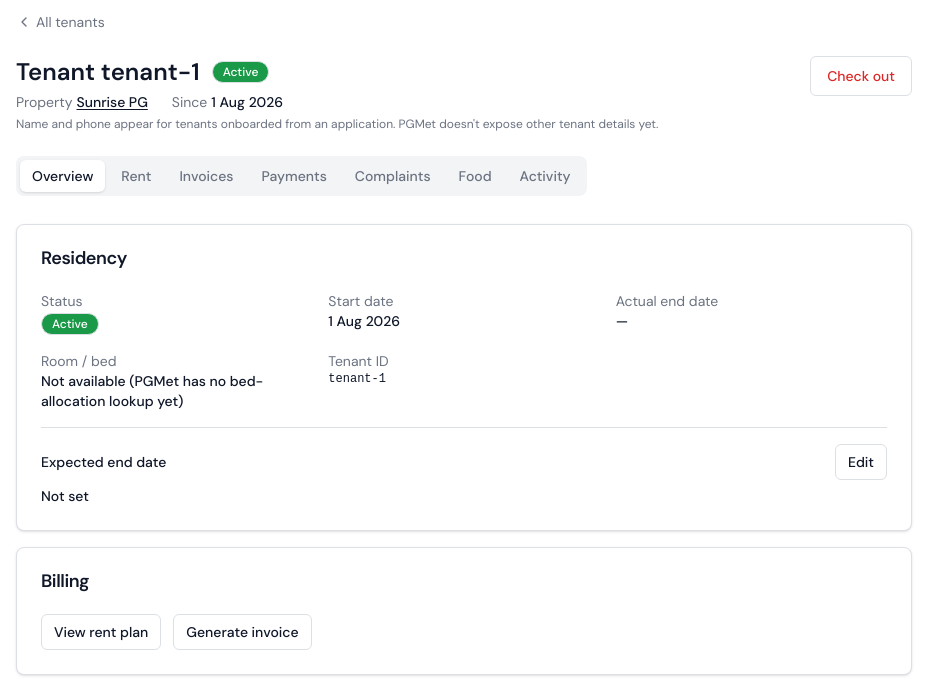
Test: ResidencyDetailPage — Tenant 360 › shows the Invoices tab scoped to this residency
This screenshot has width=929, height=693.
Click the tab "Invoices" at (206, 176), box [167, 160, 246, 192]
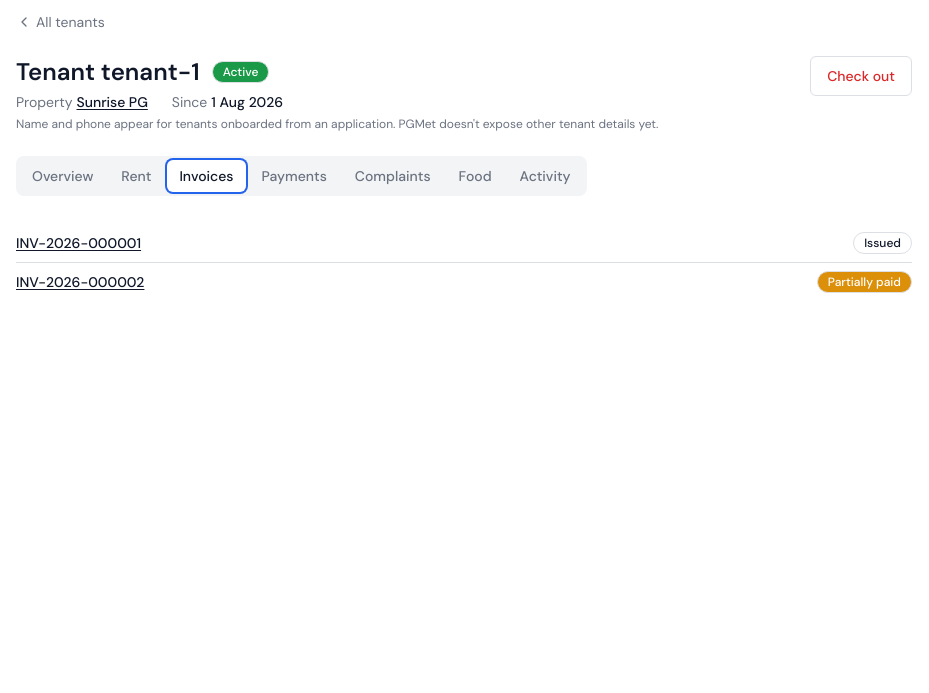
Expected: the link "INV-2026-000001" is shown, [16, 233, 141, 253]
Expected: the link "INV-2026-000002" is shown, [16, 272, 144, 292]
